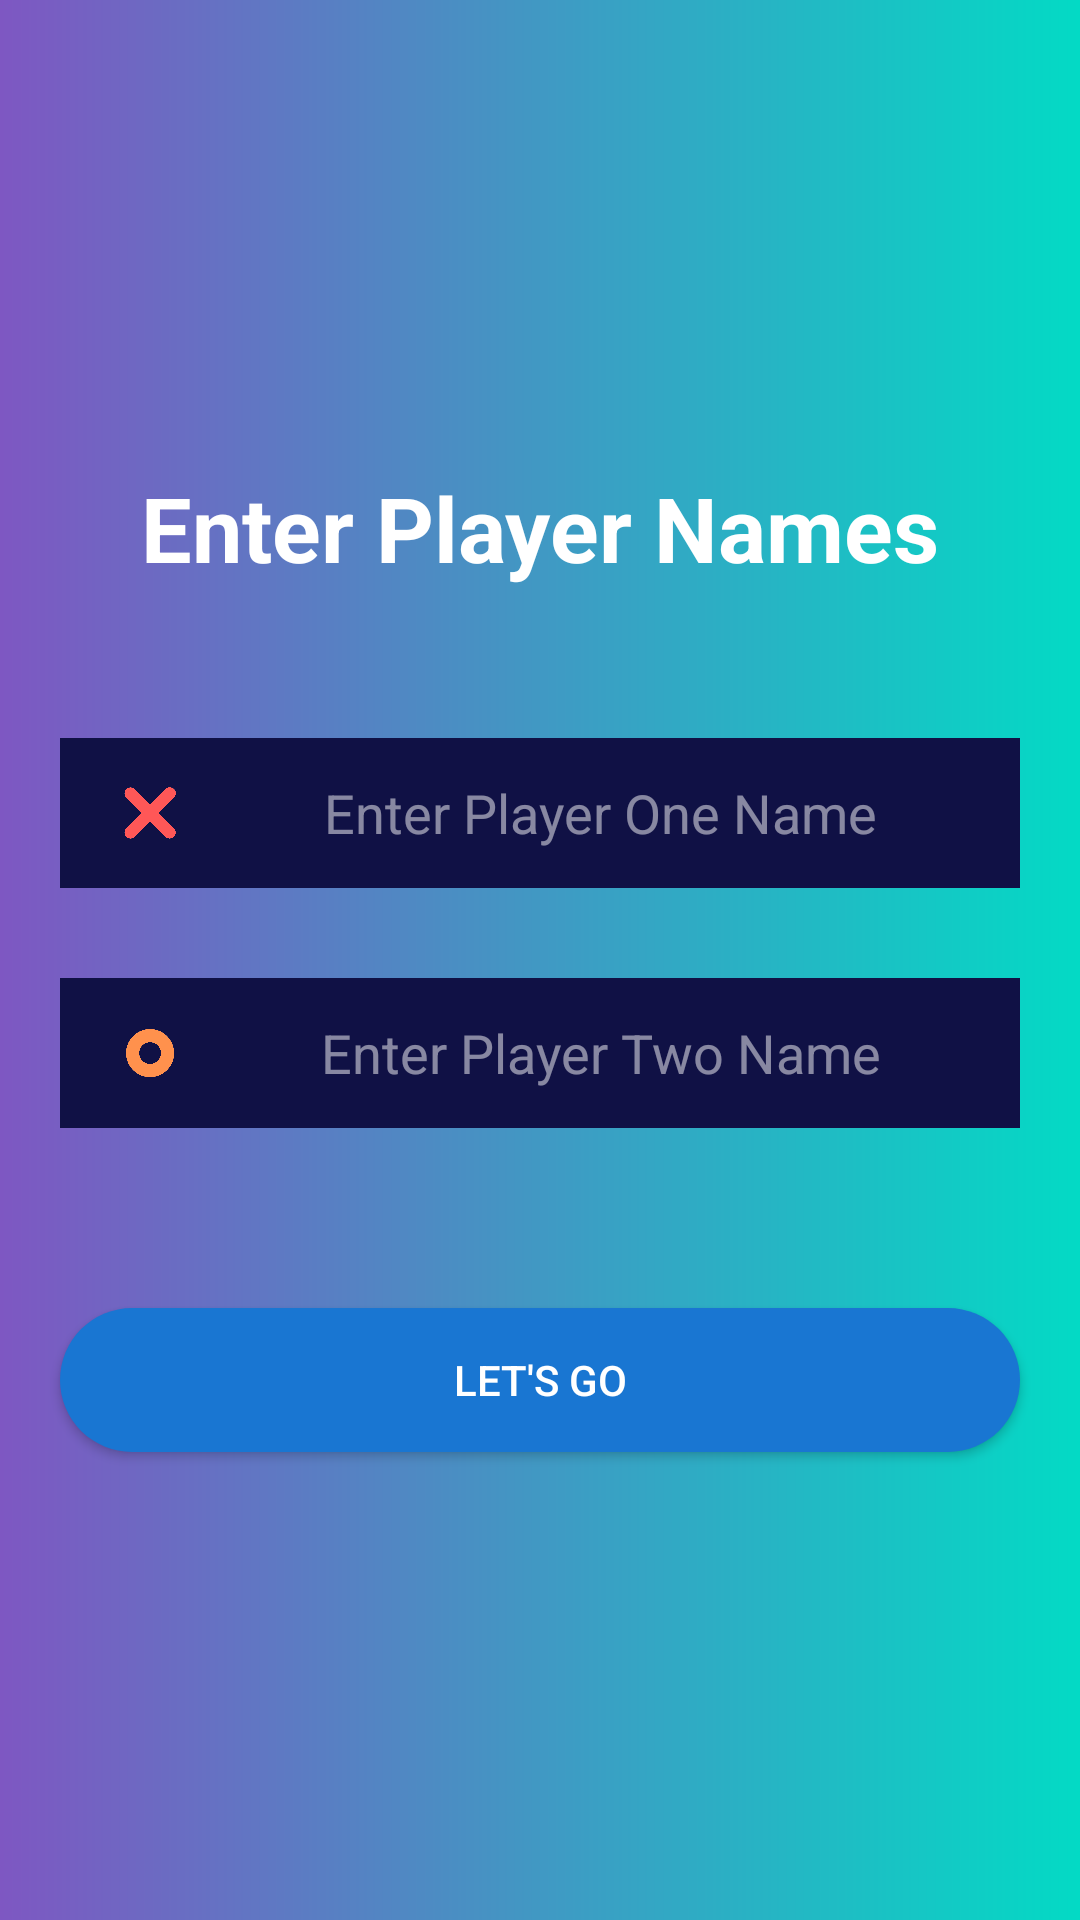

Screen size 1080*1920. Icon name, then its box in pixels as (x1, y1, x2, y2):
Circle: (126, 1029, 174, 1077)
cross: (124, 787, 176, 839)
